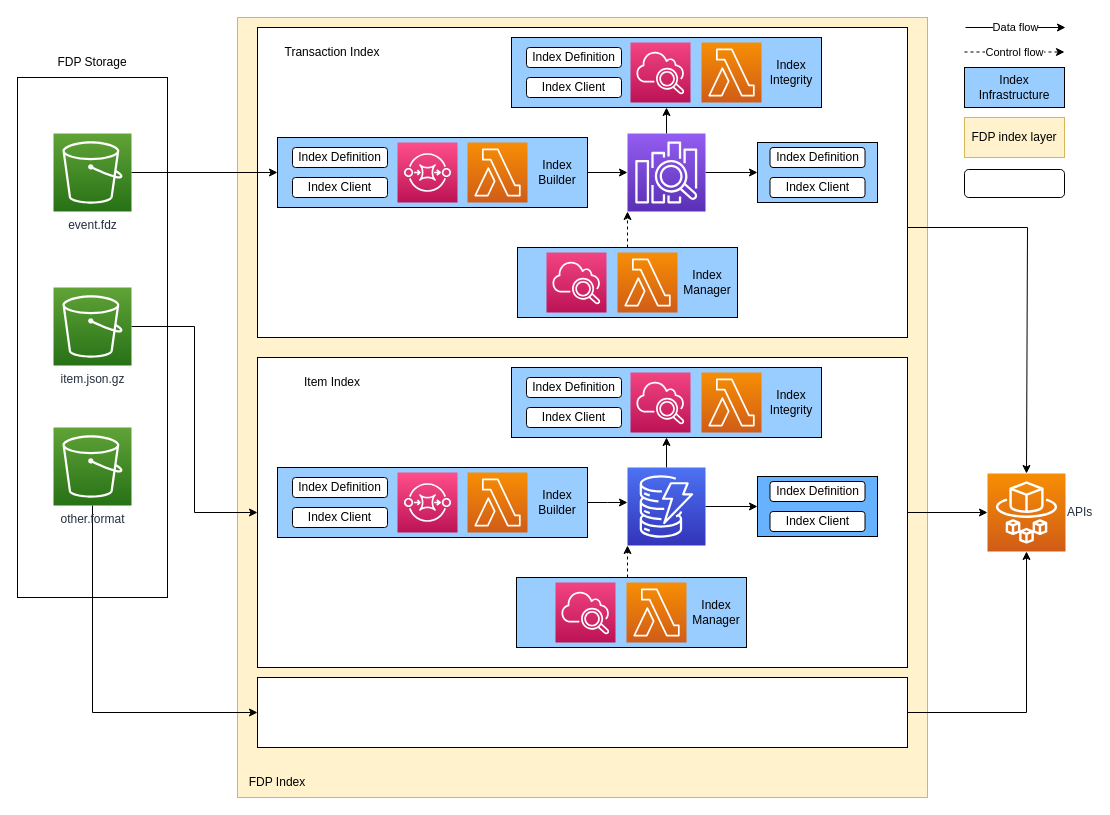
This 1110x815 diagram has some shape labels left out. Here are the shapes that lost their labels. From the top down, the centre of each, then its label:
(666,172): Index in ES
(1014,183): Java lib
(666,506): Index in DB
(582,712): Other index
